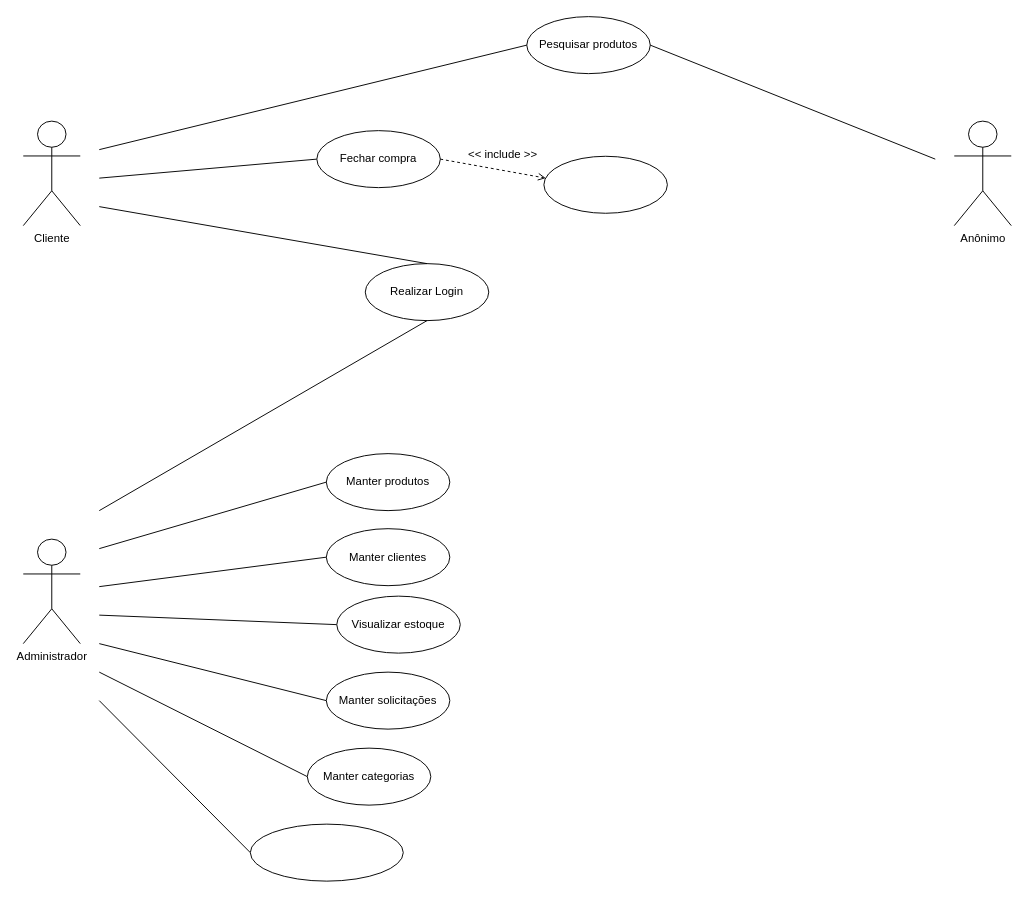
The diagram is 1028 pixels wide and 898 high, and some of its shapes have lost their labels. The shapes that lost their labels are listed below. From the top down, each one's box as (x1, y1, x2, y2) in pixels, then its label:
(543, 155, 667, 213): Registrar movimentação
(249, 823, 403, 881): Gerenciar reposição de produtos
